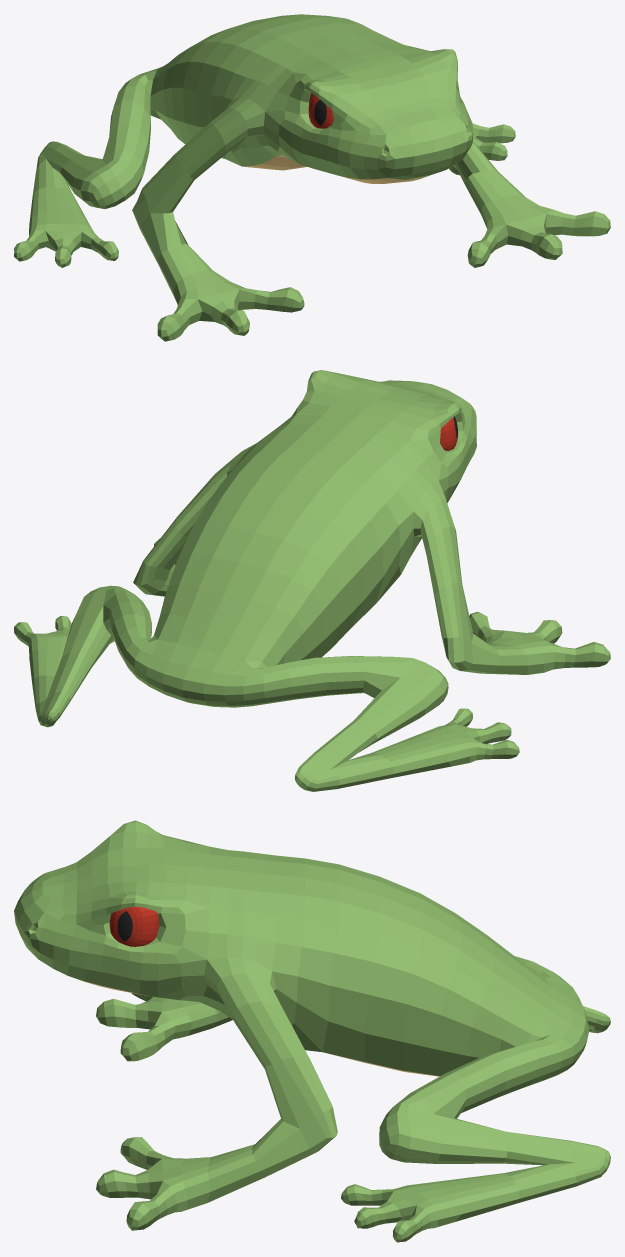
File: E_Frog.glb
3 views of the same model, one above another, from view 1: azimuth 30°, elevation 25°; view 2: azimuth 150°, elevation 25°; view 3: azimuth 270°, elevation 25° (orthographic). The views are drawn at different scales.
Visible parts, largest first — view 1: SK_Frog; view 2: SK_Frog; view 3: SK_Frog.
Boxes of the visible parts, bbox=[...] form: SK_Frog: bbox=[14, 14, 610, 341]; SK_Frog: bbox=[14, 370, 610, 791]; SK_Frog: bbox=[14, 820, 610, 1242].
Bounding box in the file's own units: 3.5 × 1.5 × 3.21.
